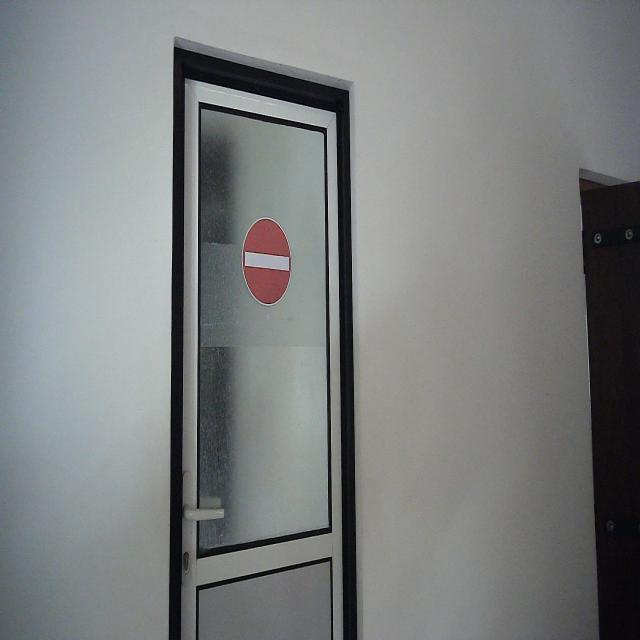no_entry: (241, 215, 293, 308)
